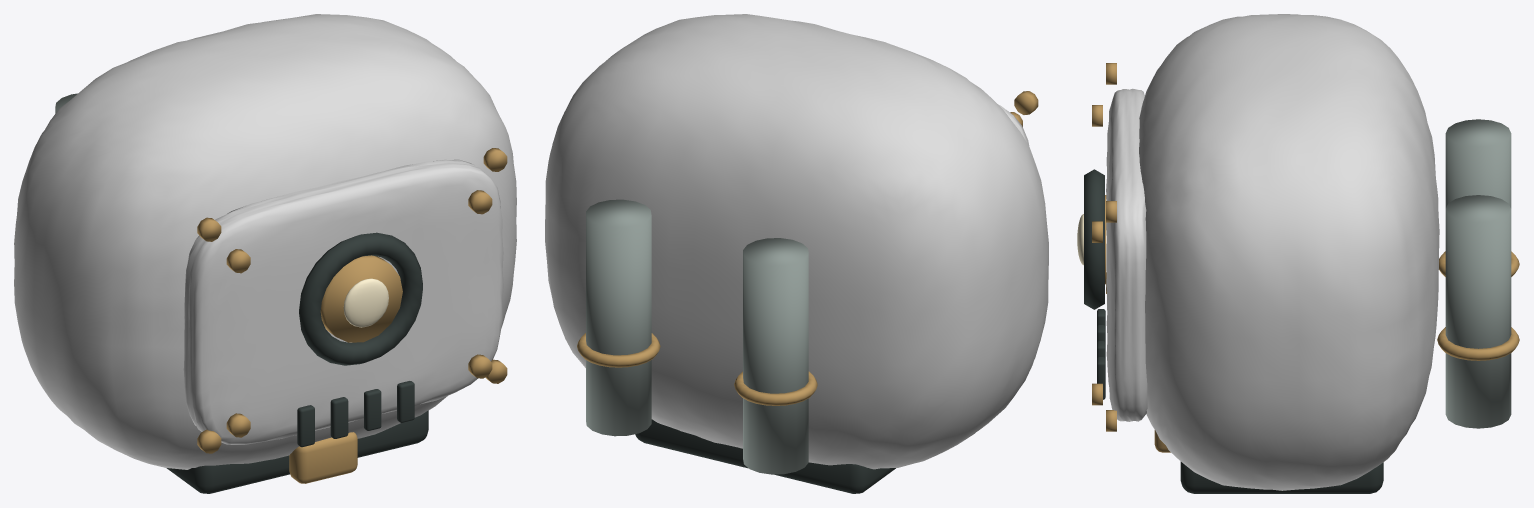
File: brute-torso-1.glb
The picture shows the model from 3 angles, left to right: view 1: azimuth 30°, elevation 25°; view 2: azimuth 150°, elevation 25°; view 3: azimuth 270°, elevation 25°; orthographic projection.
Visible parts, largest first — view 1: torso_clay, torso_mechanism, torso_brass, torso_lens; view 2: torso_clay, torso_steel, torso_mechanism, torso_brass; view 3: torso_clay, torso_steel, torso_mechanism, torso_brass.
Part boxes in pixels (<box>): torso_clay: <box>14,14,516,469</box>; torso_mechanism: <box>166,232,428,493</box>; torso_brass: <box>197,148,507,483</box>; torso_lens: <box>343,278,388,327</box>; torso_clay: <box>545,14,1048,469</box>; torso_steel: <box>586,199,808,474</box>; torso_mechanism: <box>635,419,895,493</box>; torso_brass: <box>577,91,1038,405</box>; torso_clay: <box>1106,14,1439,490</box>; torso_steel: <box>1445,119,1511,428</box>; torso_mechanism: <box>1084,169,1383,493</box>; torso_brass: <box>1092,63,1519,452</box>.
Size of the model in its own units: 1.48 by 1.22 by 1.28.
